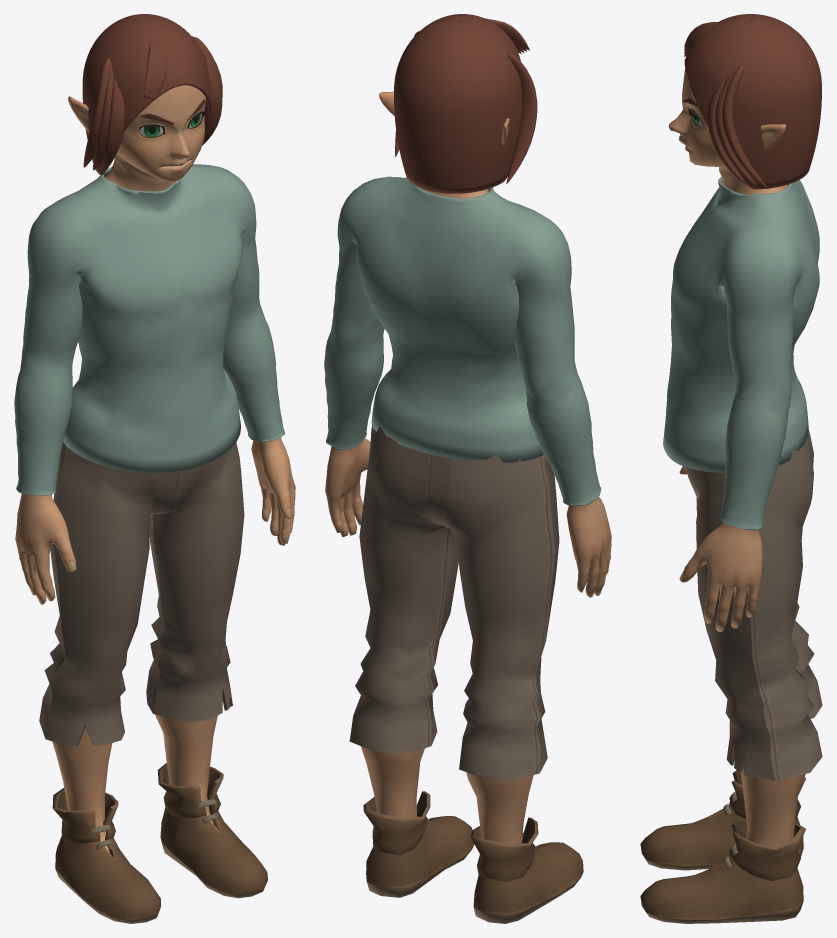
File: girl-medium.glb
The picture shows the model from 3 angles, left to right: view 1: azimuth 30°, elevation 25°; view 2: azimuth 150°, elevation 25°; view 3: azimuth 270°, elevation 25°; orthographic projection. The views are drawn at different scales.
Visible parts, largest first — view 1: girl • Plain shirt • neutral sage, girl • Pant_043__Mt_Lower_043, girl • continuous skin, Hair • detailed girl; view 2: girl • Pant_043__Mt_Lower_043, girl • Plain shirt • neutral sage, Hair • detailed girl, girl • continuous skin; view 3: girl • Plain shirt • neutral sage, girl • Pant_043__Mt_Lower_043, Hair • detailed girl, girl • continuous skin.
Boxes of the visible parts, x1,y1,x2,y2 form: girl • Plain shirt • neutral sage: (14,164,285,495); girl • Pant_043__Mt_Lower_043: (39,442,267,923); girl • continuous skin: (15,85,295,852); Hair • detailed girl: (82,14,222,175); girl • Pant_043__Mt_Lower_043: (349,424,583,923); girl • Plain shirt • neutral sage: (324,176,601,505); Hair • detailed girl: (394,14,537,193); girl • continuous skin: (325,91,611,843); girl • Plain shirt • neutral sage: (663,177,819,530); girl • Pant_043__Mt_Lower_043: (640,429,822,923); Hair • detailed girl: (684,14,821,189); girl • continuous skin: (668,69,805,847).
Size of the model in its own units: 0.5778 by 1.76 by 0.3363.
11 materials, 10 textured.
